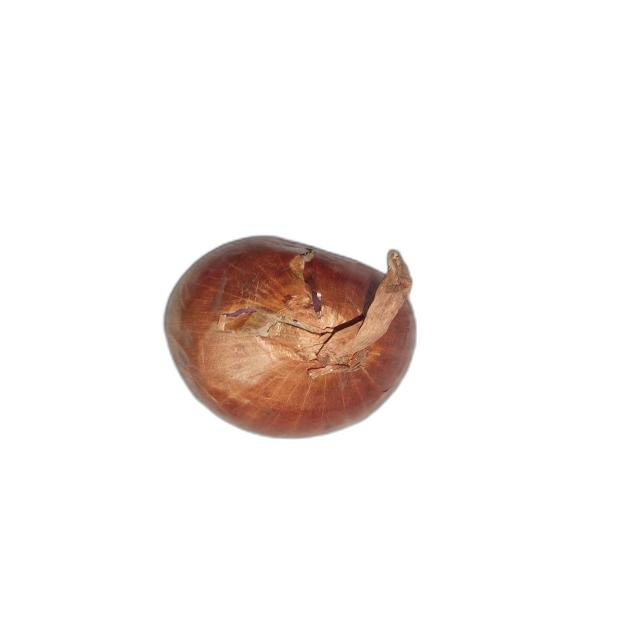onion: (162, 235, 420, 441)
